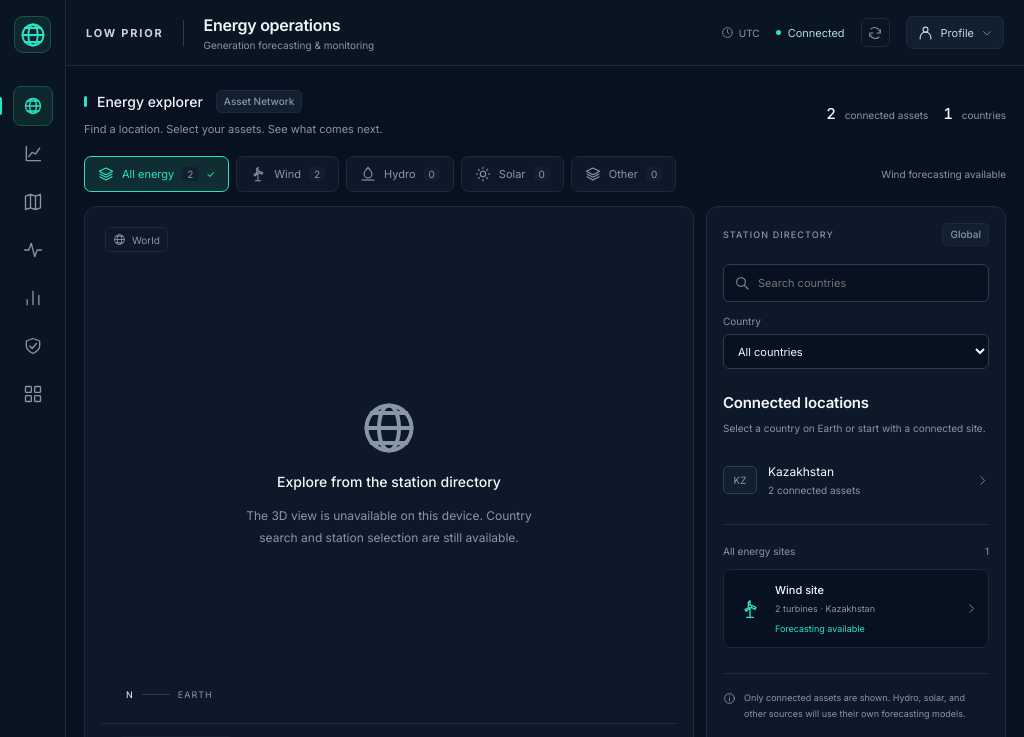
Test: selects a country and turbine, runs a 24-hour forecast, and exposes its results and export
This screenshot has width=1024, height=737.
Select "Kazakhstan" in the dropdown named "Select country" at (856, 352), box [723,334,989,369]
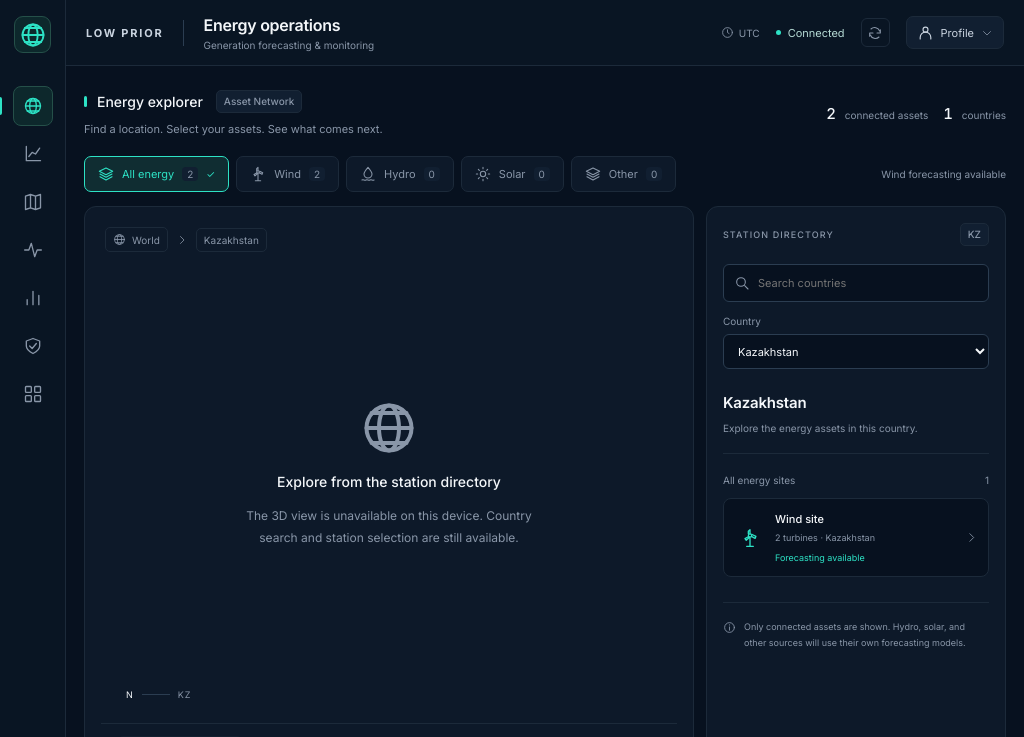
Click the button "Wind site 2 turbines · Kazakhstan Forecasting available" at (856, 538), box [723,498,989,577]
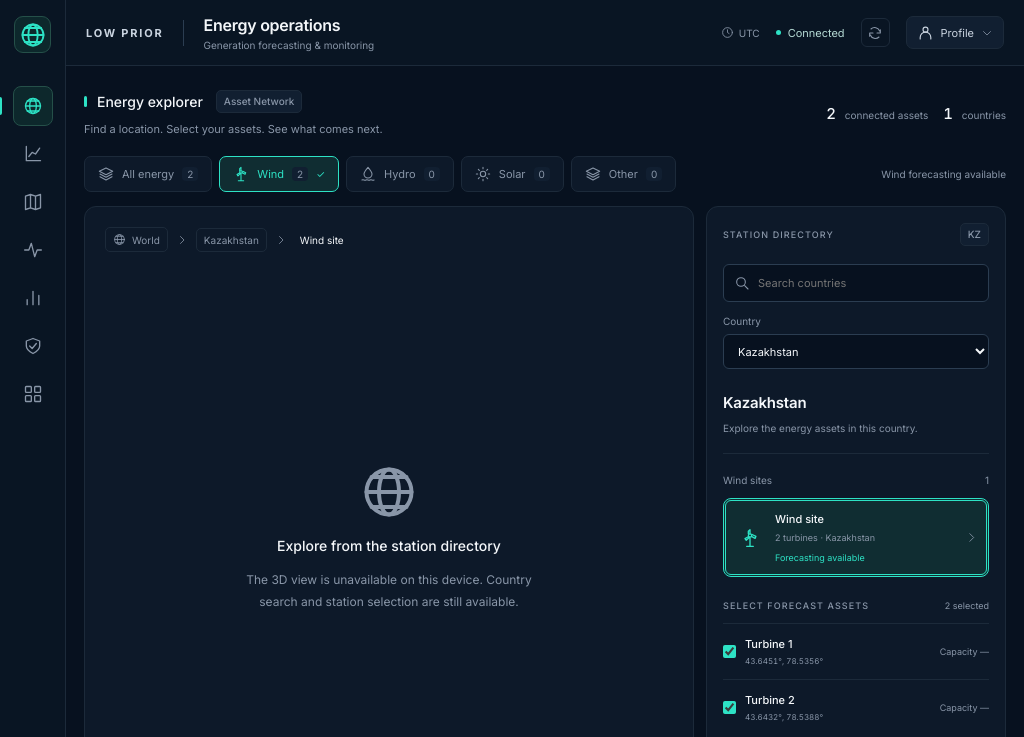
Click the checkbox labelled "Turbine 1 43.6451°, 78.5356° Capacity —" at (730, 652), box [723,645,736,658]
(page scrolled)
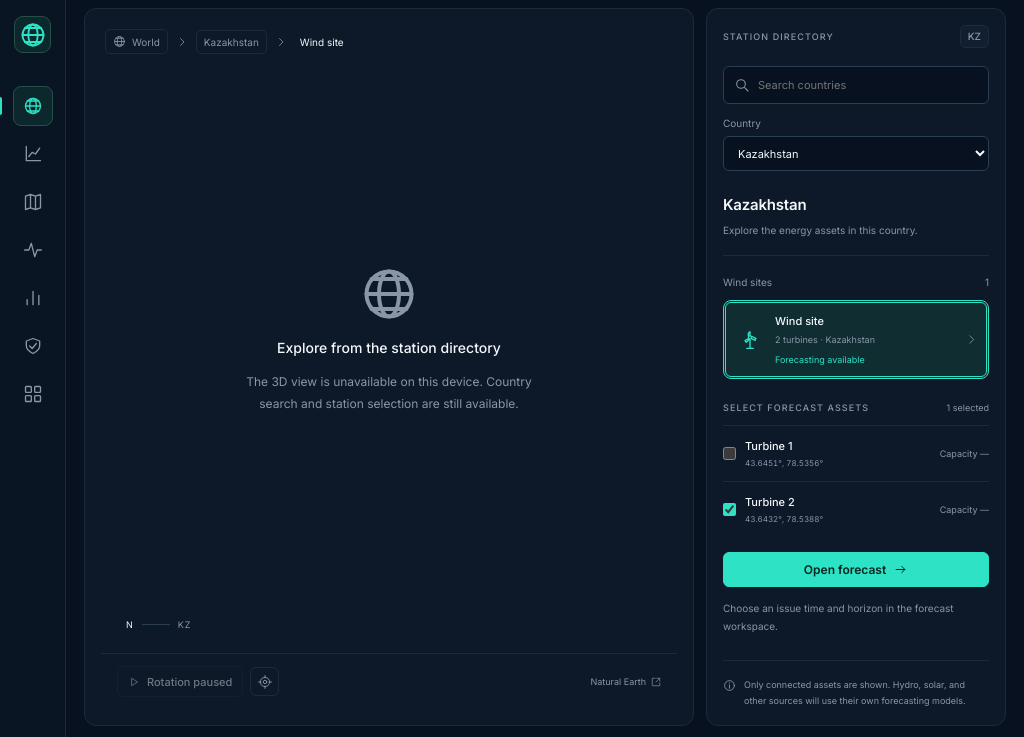
Click the button "Open forecast" at (856, 570), box [723,552,989,587]
(page scrolled)
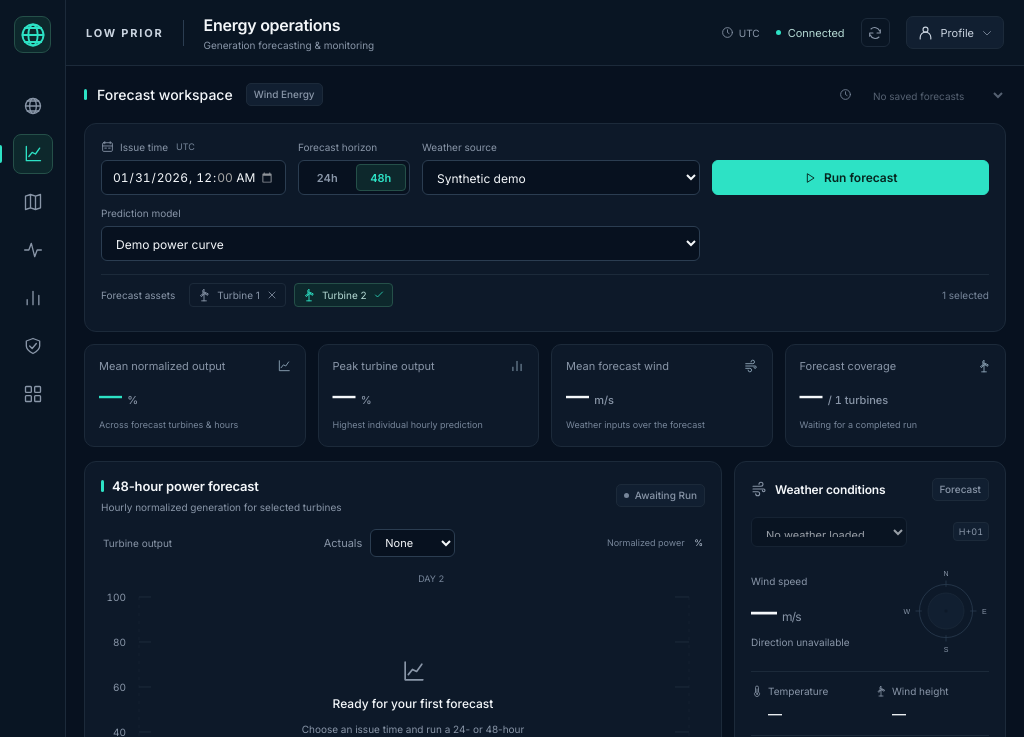
Expected: the heading "Forecast workspace" is shown, [97,86,233,103]
Click the button "24h" at (327, 178), box [302,164,352,191]
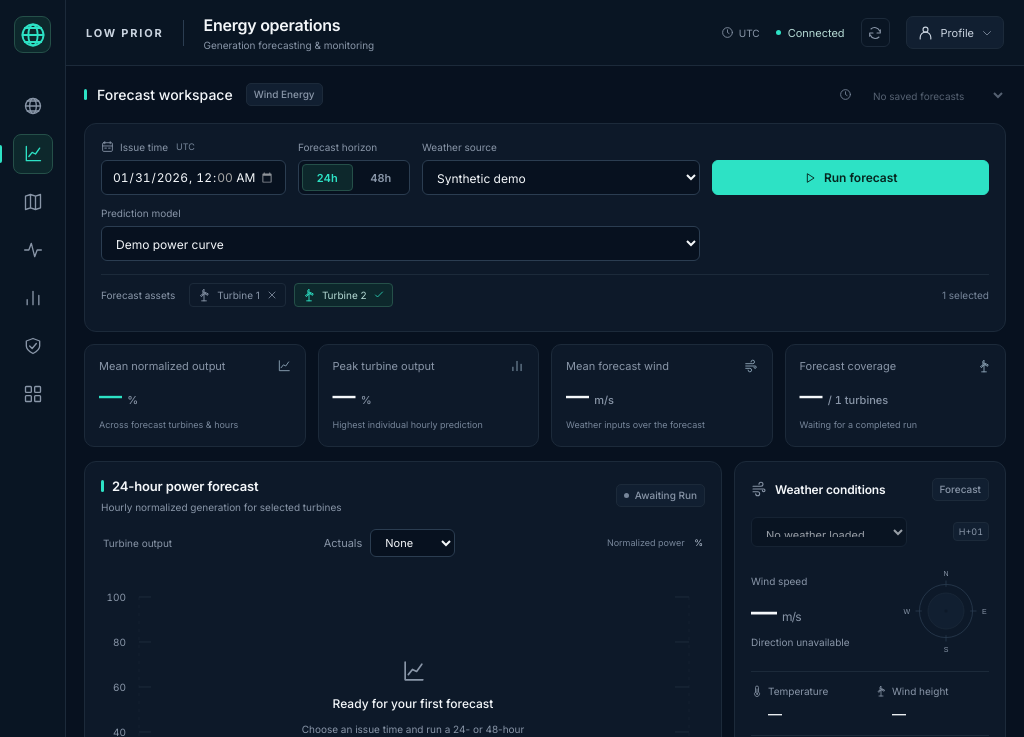
Click the button "Run forecast" at (850, 178), box [712,160,989,195]
(page scrolled)
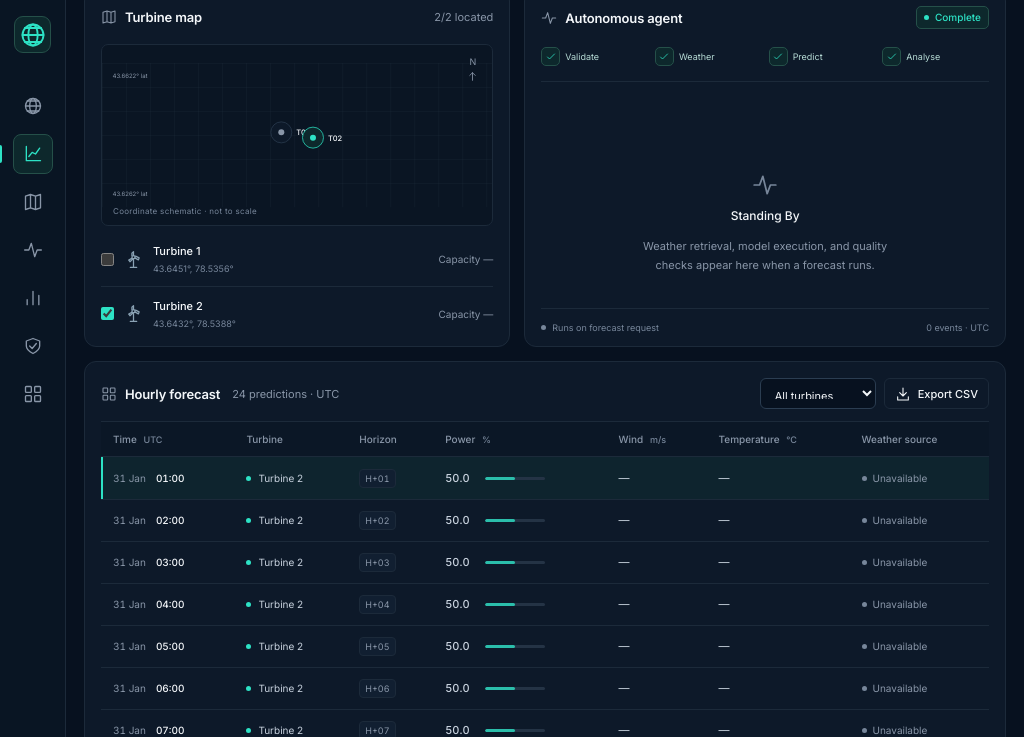
Expected: the text "24 predictions · UTC" is shown, [232,387,339,401]
